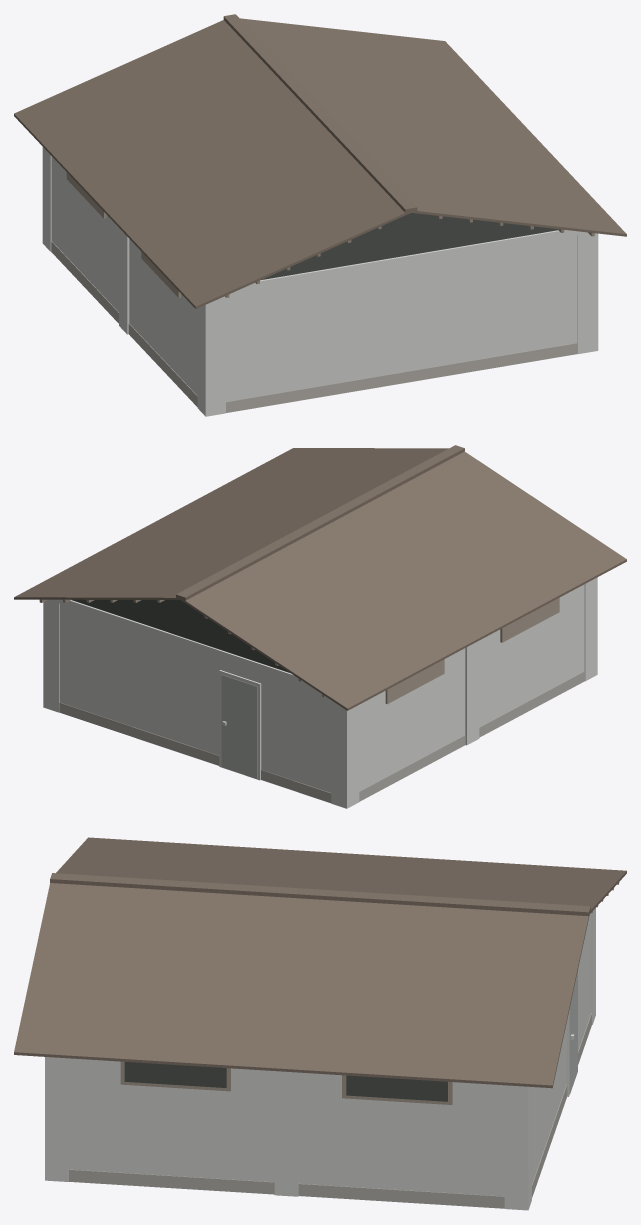
File: rares_sgpp_storage.glb
3 renders of one model, top to bottom at view 1: azimuth 30°, elevation 25°; view 2: azimuth 150°, elevation 25°; view 3: azimuth 270°, elevation 25°, orthographic. The views are drawn at different scales.
Visible parts, largest first — view 1: Base_Skirt; view 2: Base_Skirt; view 3: Base_Skirt.
Boxes of the visible parts, x1,y1,x2,y2 form: Base_Skirt: (14,14,626,416); Base_Skirt: (14,445,626,808); Base_Skirt: (14,837,626,1210).
Size of the model in its own units: 9.7 by 3.74 by 10.13.
